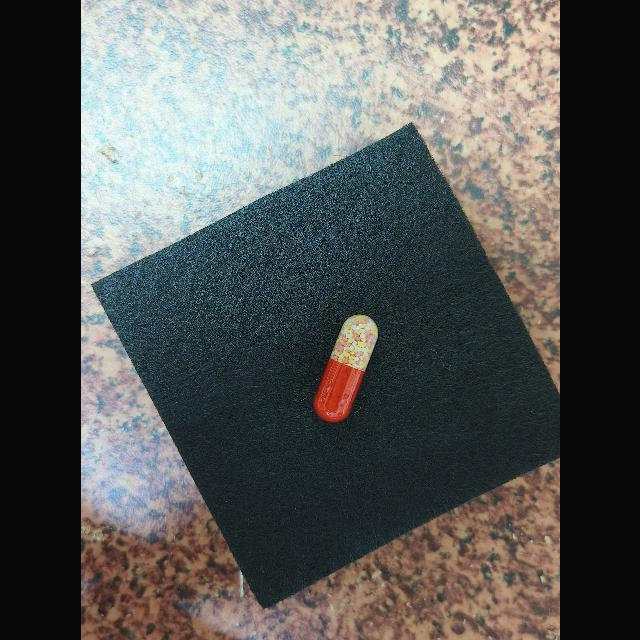Intact Capsule: (313, 314, 378, 422)
